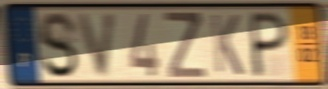4: (129, 11, 162, 79)
K: (209, 11, 246, 78)
P: (250, 9, 292, 80)
S: (36, 10, 81, 81)
V: (75, 10, 121, 80)
Z: (162, 10, 208, 80)
